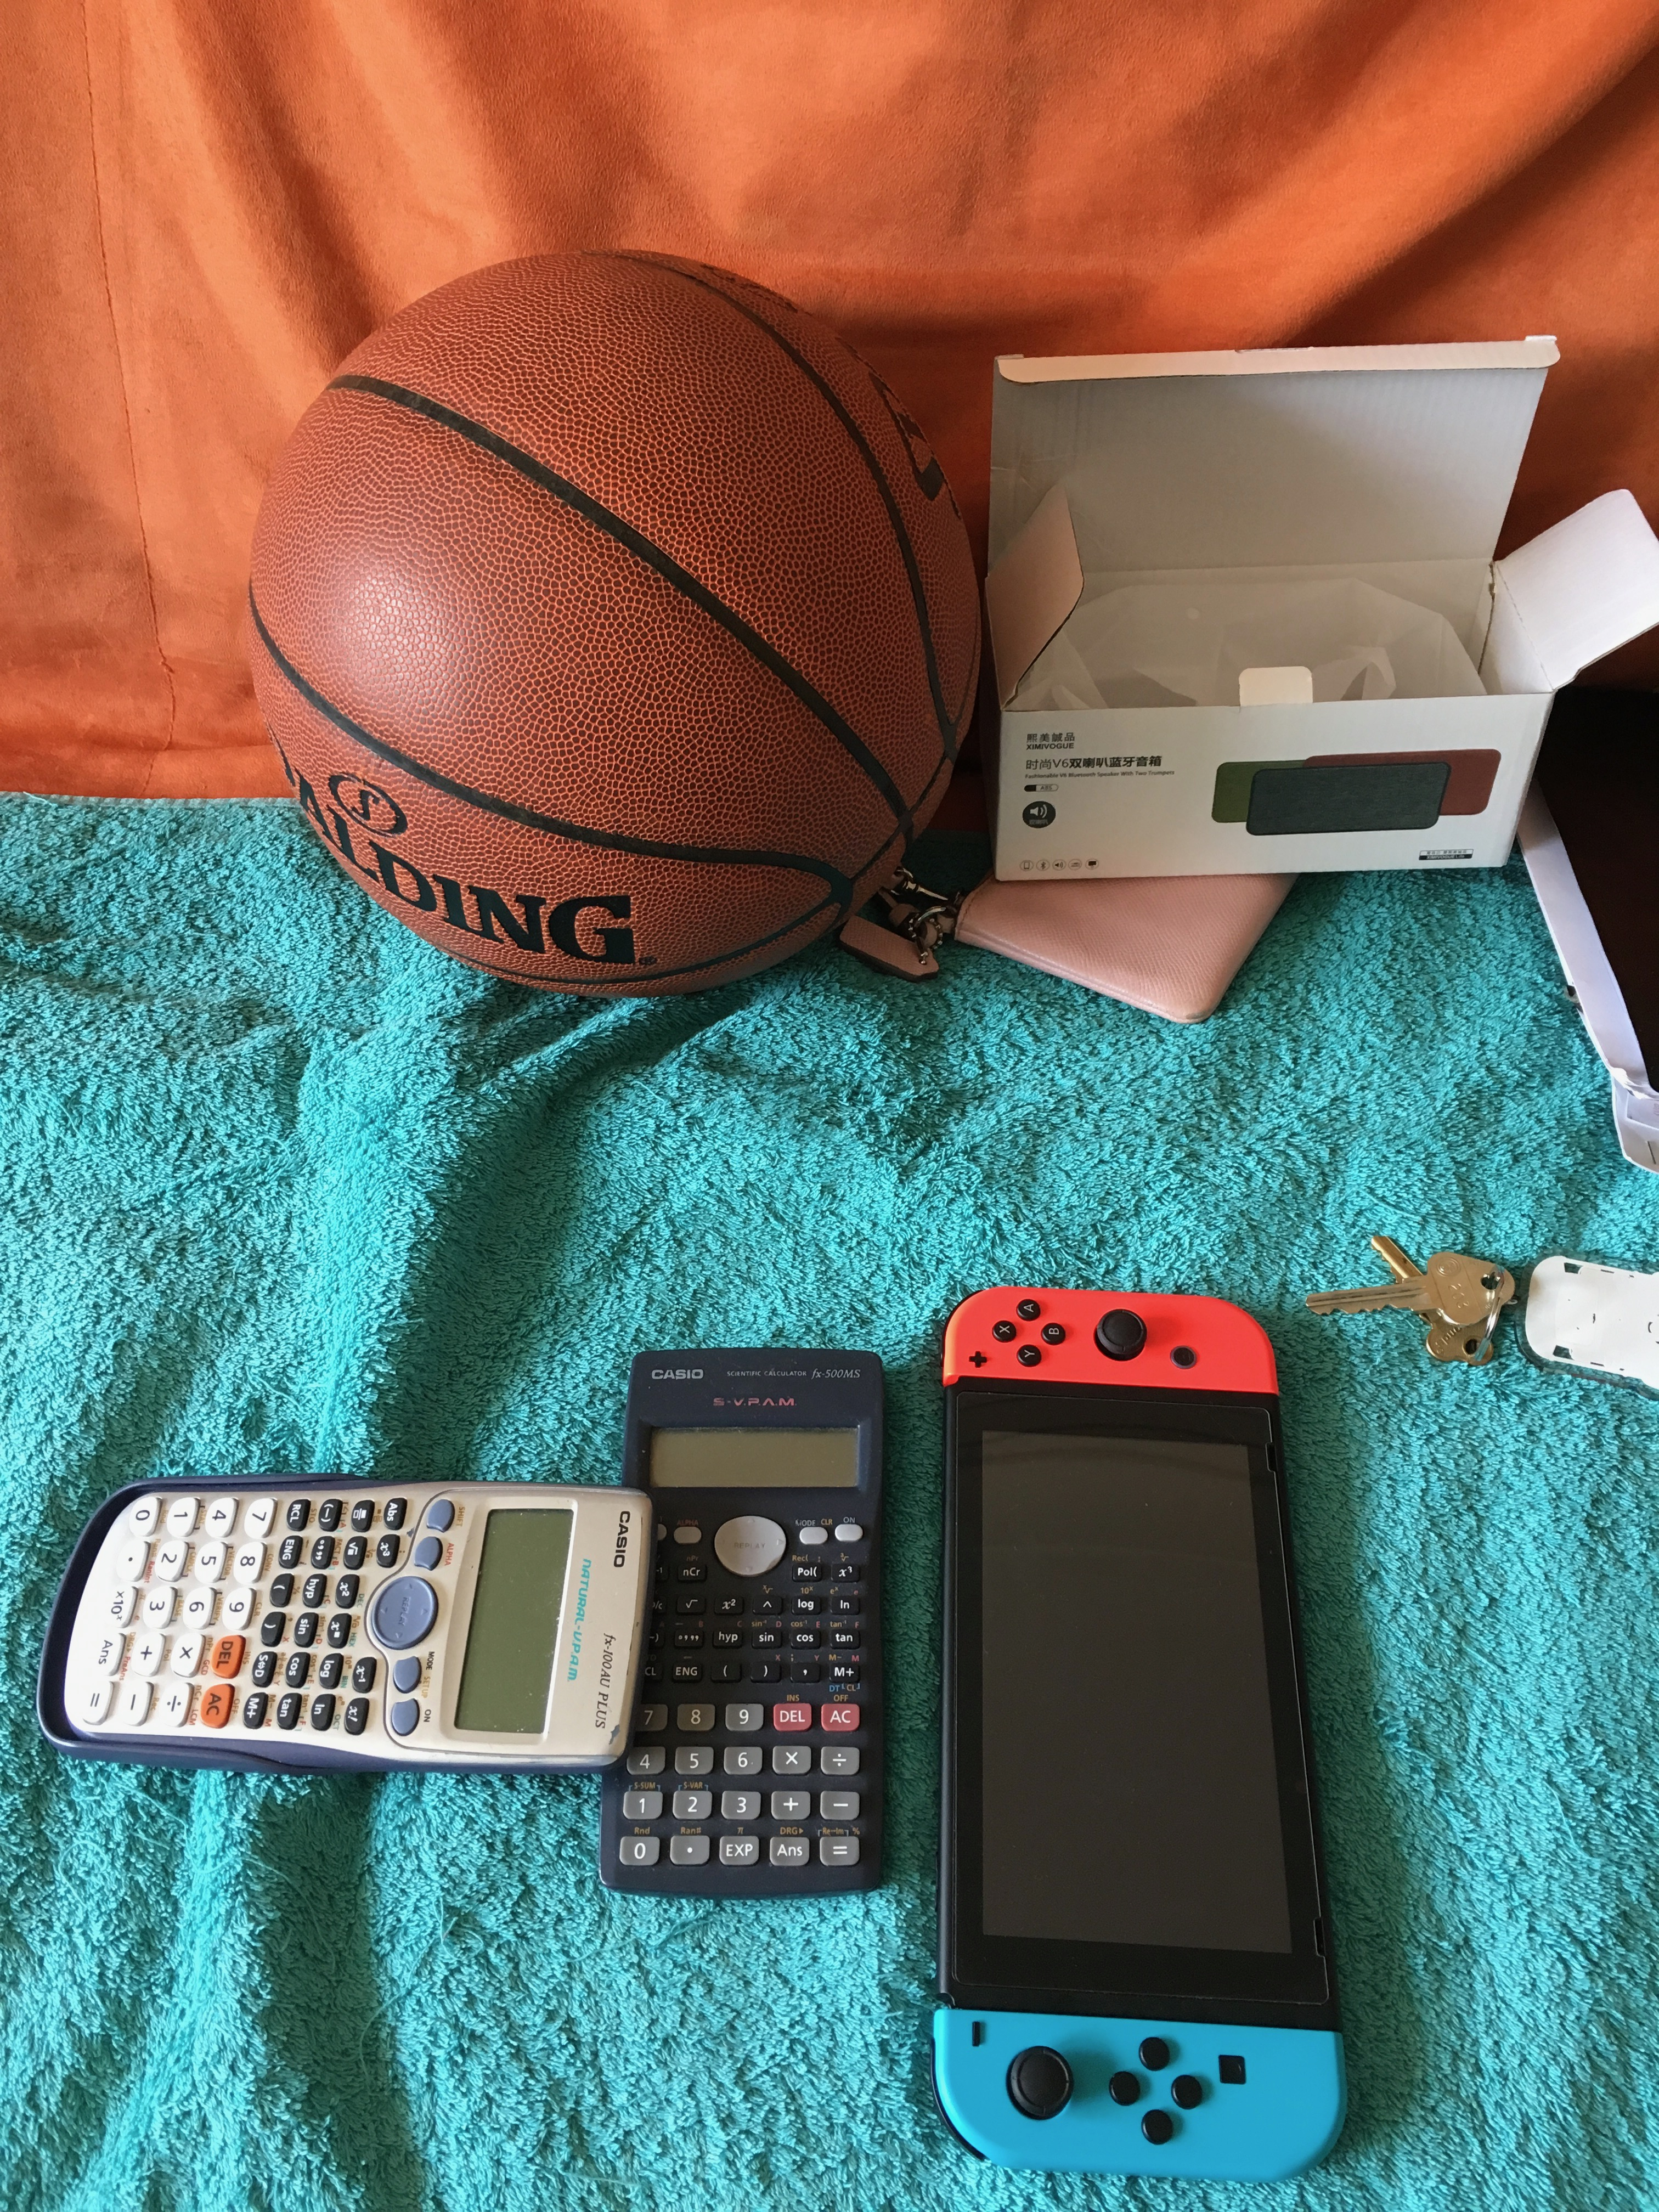Basketball: (234, 230, 992, 1015)
Calculator: (40, 1468, 655, 1768), (605, 1341, 911, 1897)
NintendoSwitch: (911, 1270, 1361, 2193)
